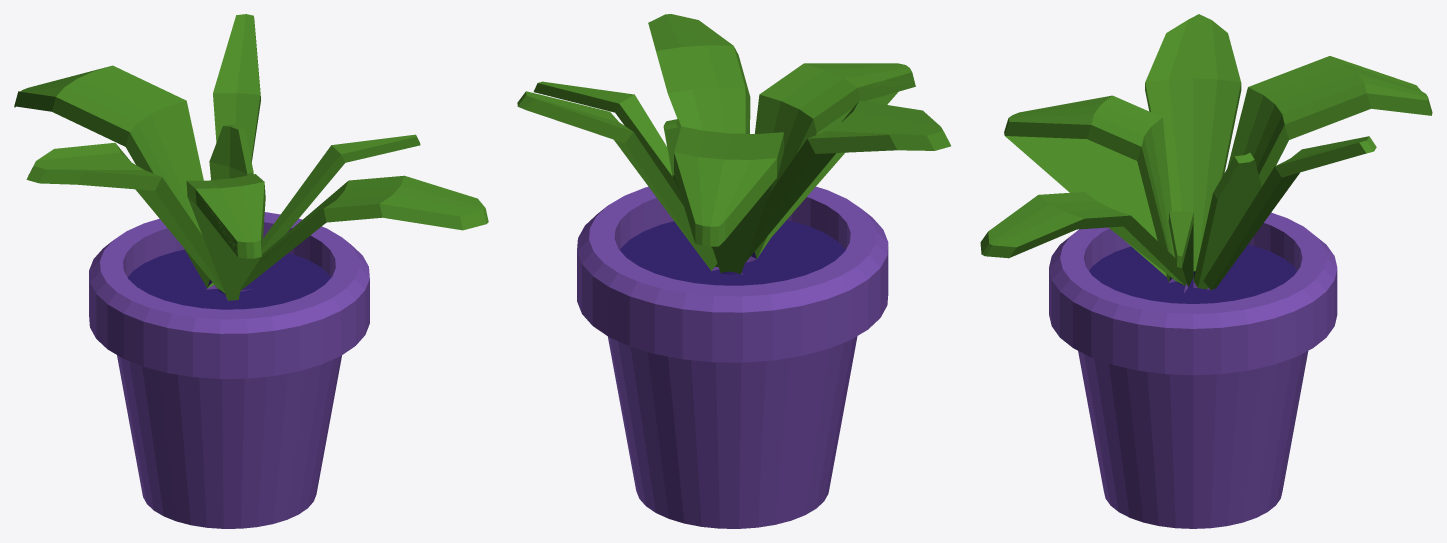
File: flower_1.fbx
3 views of the same model, side by side, from view 1: azimuth 30°, elevation 25°; view 2: azimuth 150°, elevation 25°; view 3: azimuth 270°, elevation 25° (orthographic). The views are drawn at different scales.
Parts seen in each view (by area): view 1: Цилиндр.005; view 2: Цилиндр.005; view 3: Цилиндр.005.
Part boxes in pixels (x1,y1,x2,y2): Цилиндр.005: (14, 14, 488, 528); Цилиндр.005: (517, 14, 950, 528); Цилиндр.005: (980, 14, 1432, 528).
Bounding box in the file's own units: 189 × 183 × 187.
